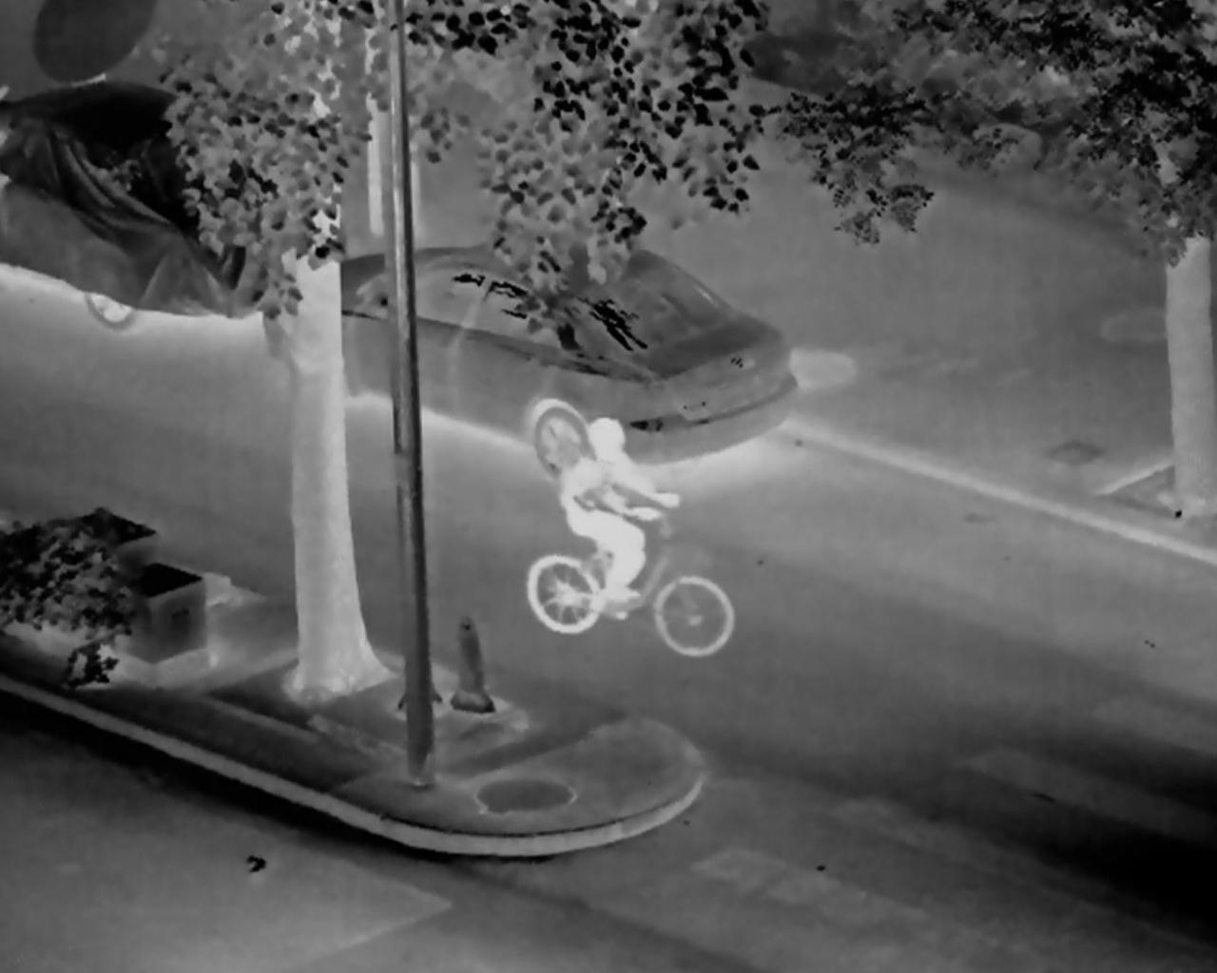person: (557, 417, 684, 623)
